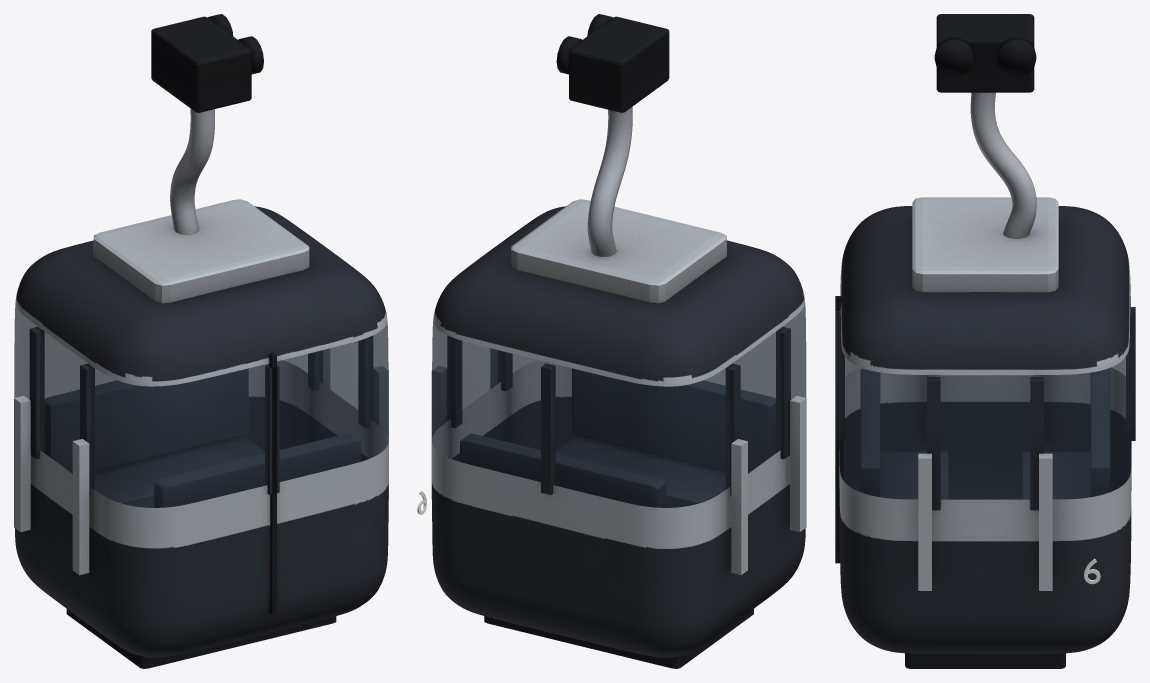
The model's file is gondola6.glb.
3 renders of one model, left to right at view 1: azimuth 30°, elevation 25°; view 2: azimuth 150°, elevation 25°; view 3: azimuth 270°, elevation 25°, orthographic. The views are drawn at different scales.
Parts seen in each view (by area): view 1: gondola6, gondola6_glass; view 2: gondola6, gondola6_glass; view 3: gondola6, gondola6_glass.
Boxes of the visible parts, left/top/right/bottom form: gondola6: left=14, top=14, right=388, bottom=668; gondola6_glass: left=14, top=303, right=388, bottom=507; gondola6: left=431, top=14, right=806, bottom=668; gondola6_glass: left=432, top=302, right=806, bottom=507; gondola6: left=835, top=14, right=1135, bottom=668; gondola6_glass: left=839, top=271, right=1131, bottom=499.
Bounding box in the file's own units: 1.88 × 3.38 × 1.54.
Materials: 3 (1 with a texture image).
